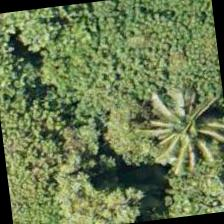Kelapa_Sawit: (130, 81, 223, 182)
